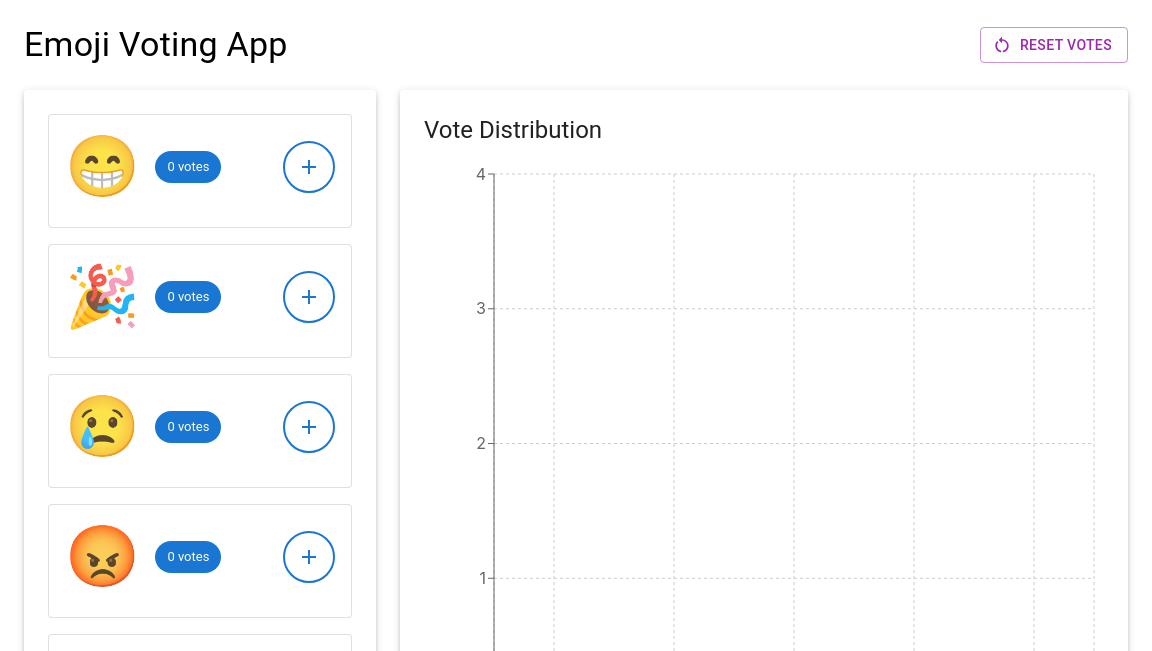
Test case: EmojiVoting Tests › should sort emojis by vote count with most votes first
Click second emoji 3 times
Click the button with test id "AddIcon" at x=309, y=297, box [283,271,335,323]
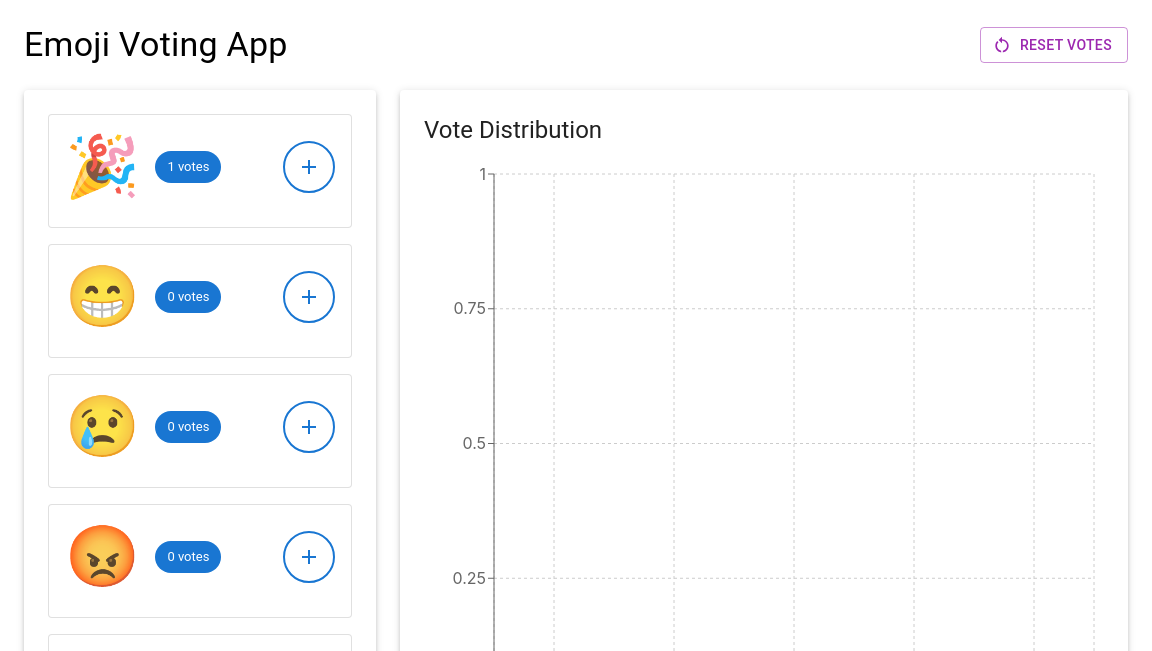
Click the button with test id "AddIcon" at x=309, y=167, box [283,141,335,193]
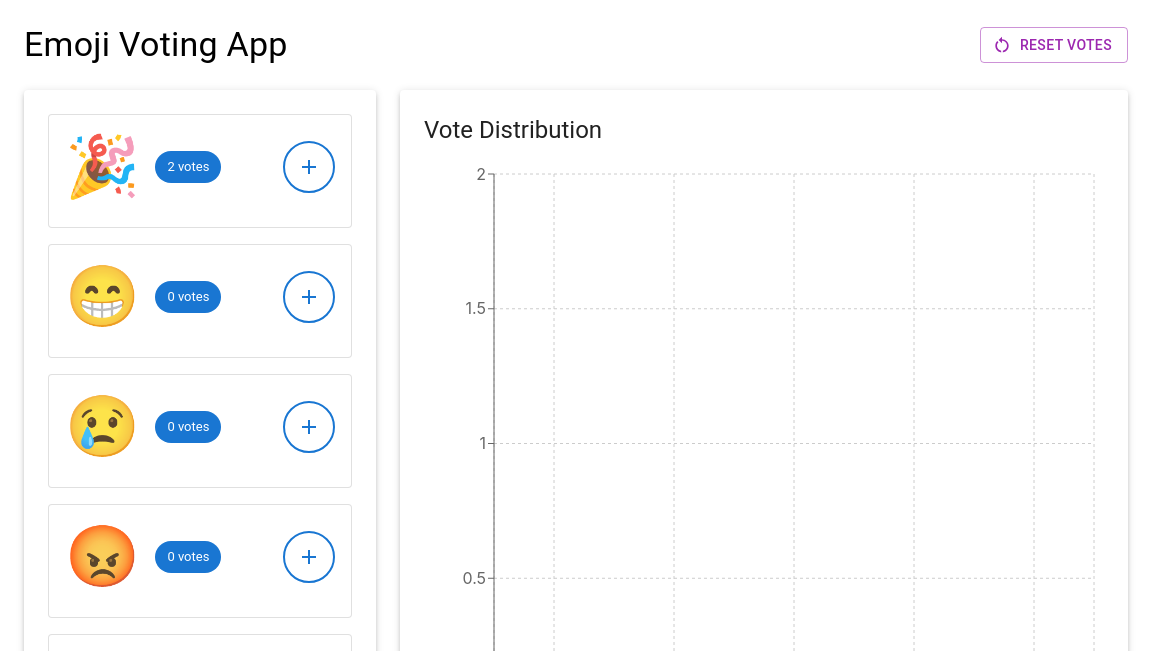
Click the button with test id "AddIcon" at x=309, y=167, box [283,141,335,193]
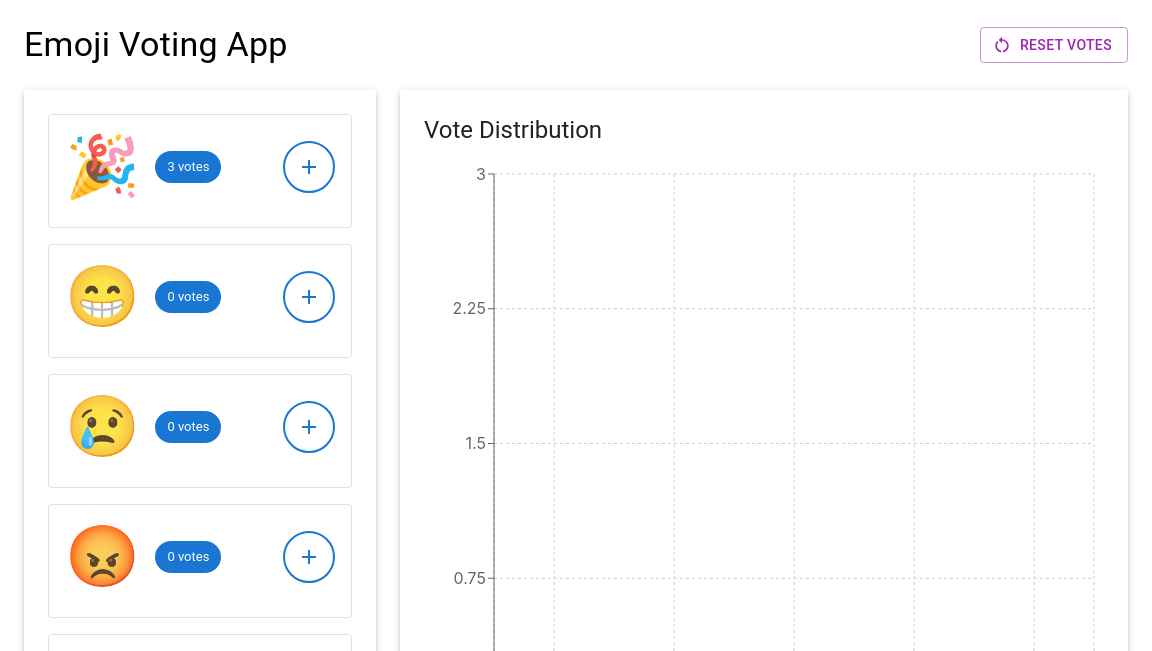
Click third emoji 2 times
Click the button with test id "AddIcon" at x=309, y=427, box [283,401,335,453]
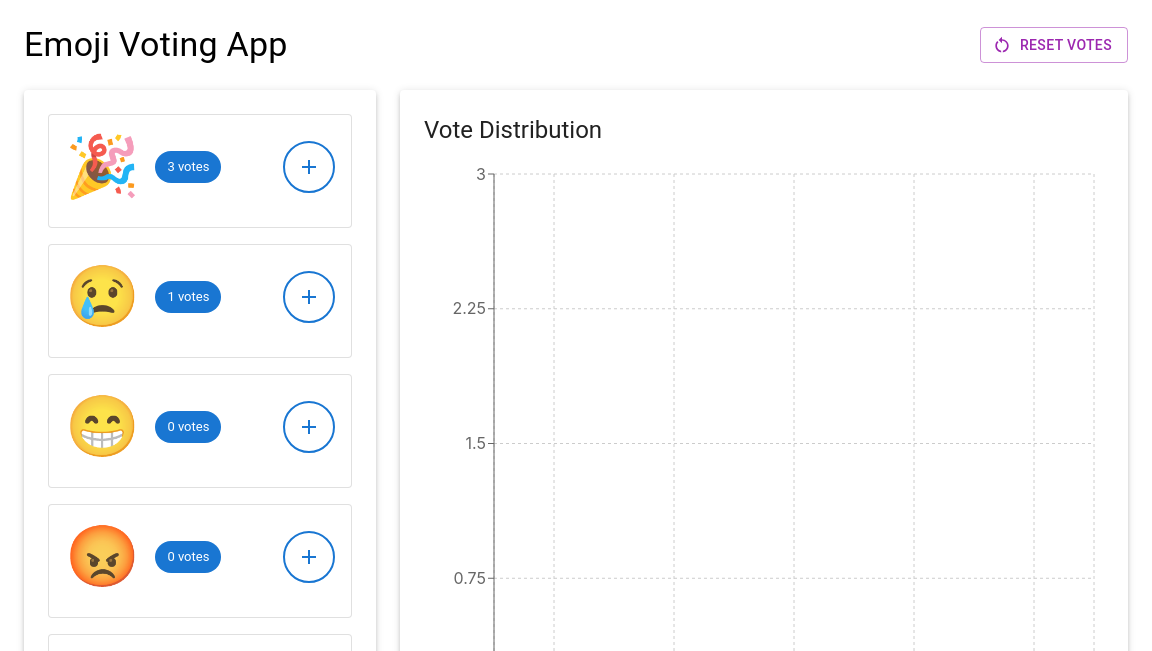
Click the button with test id "AddIcon" at x=309, y=297, box [283,271,335,323]
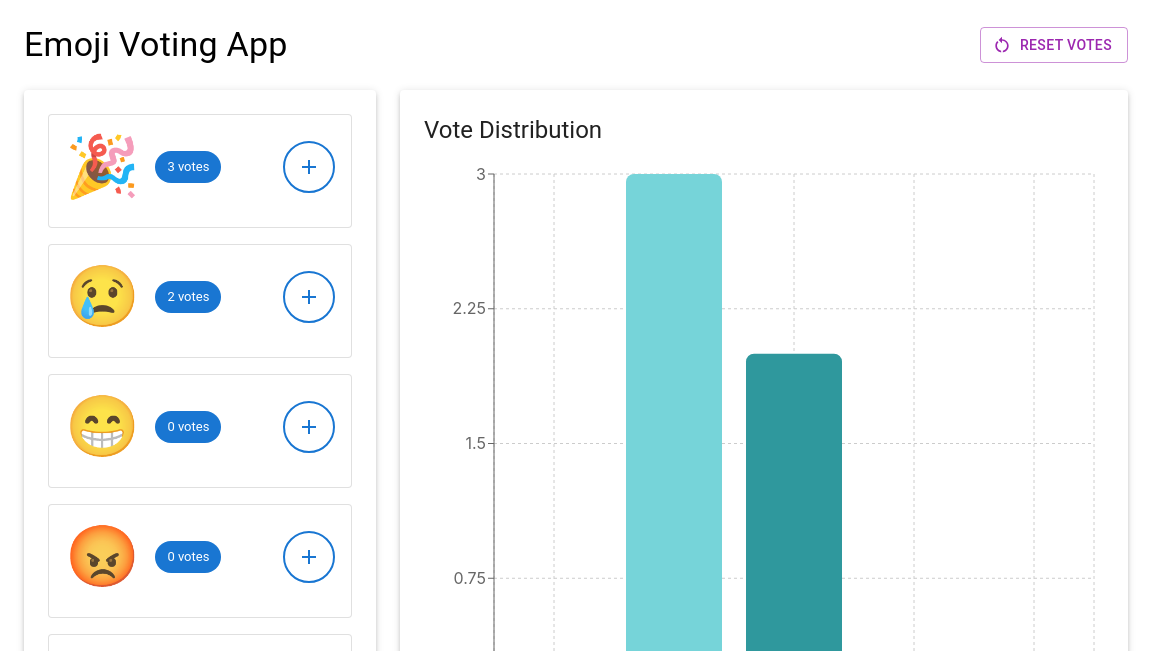
Expected: the element with test id "AddIcon" shows "🎉", [65,131,139,202]
Expected: the element with test id "AddIcon" shows "3 votes", [167,159,209,174]
Expected: the element with test id "AddIcon" shows "2 votes", [167,289,209,304]
